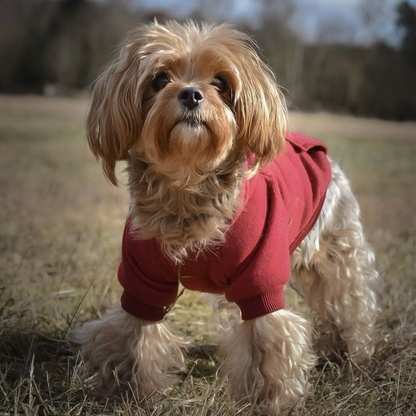yorkshire: (80, 17, 372, 395)
